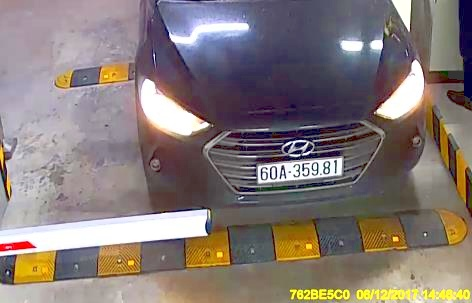plate: (253, 156, 349, 187)
